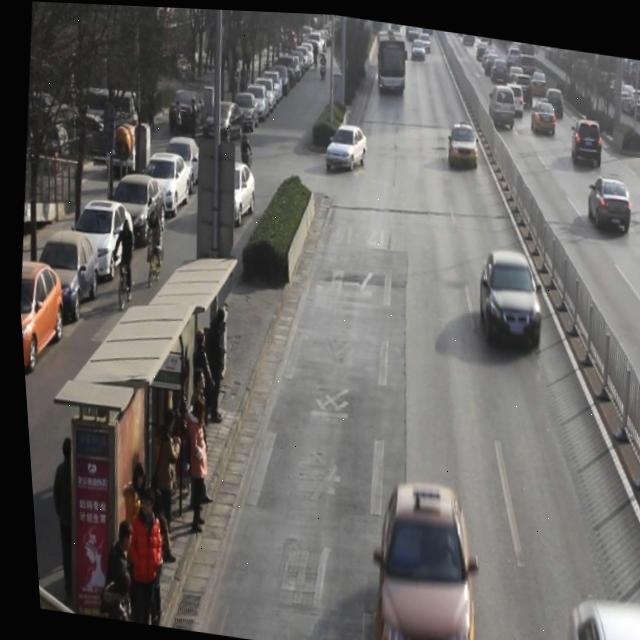car: (359, 471, 480, 640), (471, 244, 544, 344), (195, 157, 260, 228), (555, 591, 640, 640), (580, 167, 633, 229), (320, 118, 367, 171), (566, 111, 604, 164), (443, 114, 479, 167), (527, 93, 557, 133), (540, 81, 564, 115), (512, 68, 535, 103), (503, 77, 525, 113), (488, 52, 510, 78), (528, 63, 546, 94), (408, 33, 427, 60), (482, 48, 500, 74), (516, 47, 536, 70), (417, 27, 432, 52), (504, 39, 521, 61), (505, 59, 524, 78), (519, 38, 534, 54)
truck: (486, 79, 517, 124)
van: (370, 25, 410, 95)
